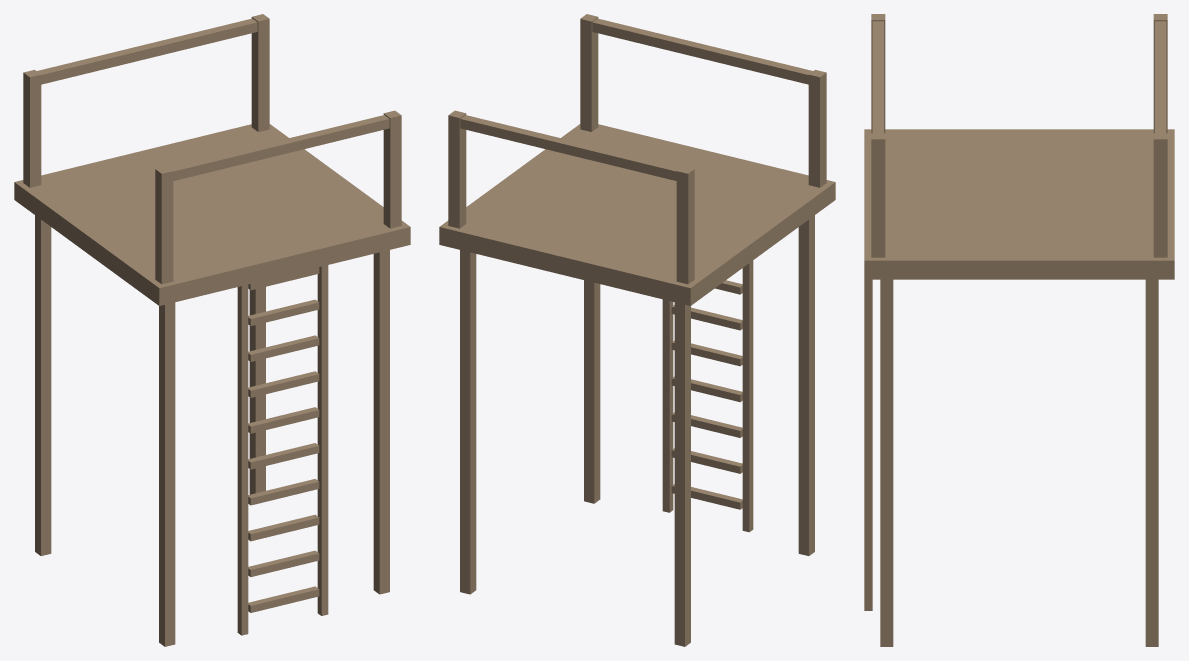
The model's file is watchtower.glb.
3 renders of one model, left to right at view 1: azimuth 30°, elevation 25°; view 2: azimuth 150°, elevation 25°; view 3: azimuth 270°, elevation 25°, orthographic. The views are drawn at different scales.
Parts seen in each view (by area): view 1: body; view 2: body; view 3: body.
Boxes of the visible parts, x1,y1,x2,y2 form: body: (14,14,410,646); body: (439,14,835,646); body: (864,14,1174,646).
Size of the model in its own units: 2.2 by 4 by 2.2.
